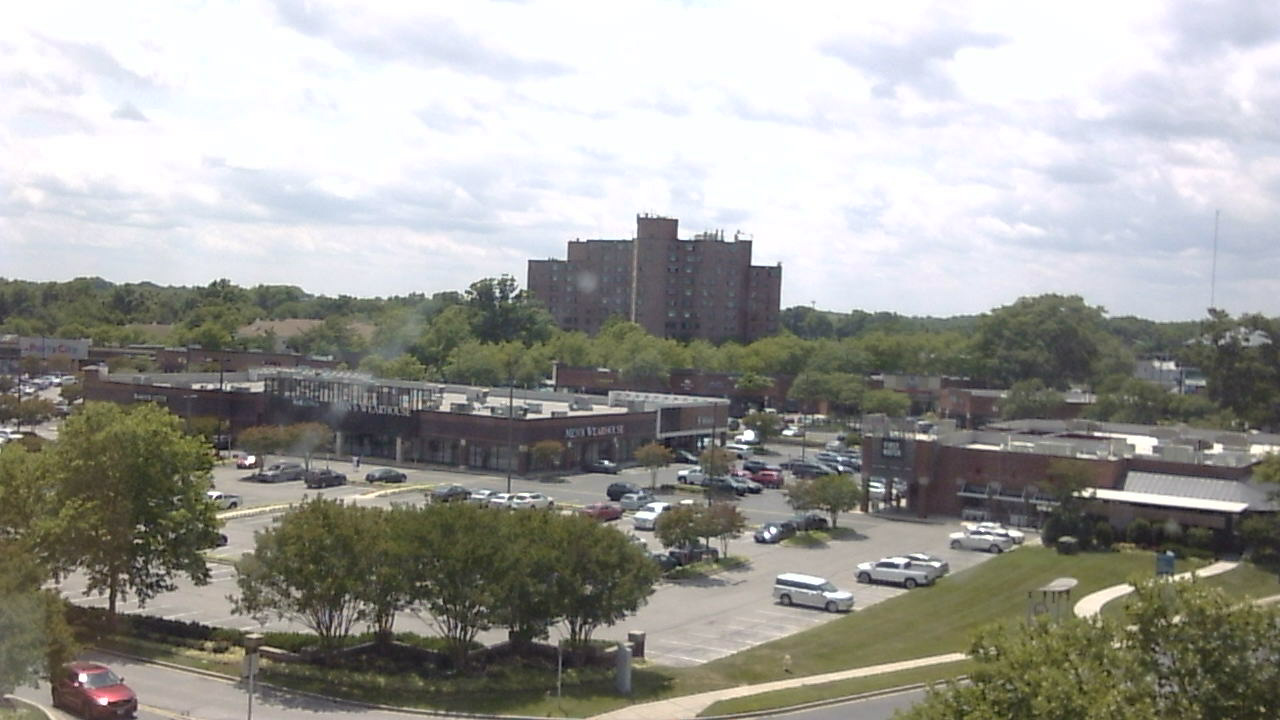Car: (49, 656, 157, 720), (773, 574, 870, 634)
Truck: (863, 557, 940, 599)
